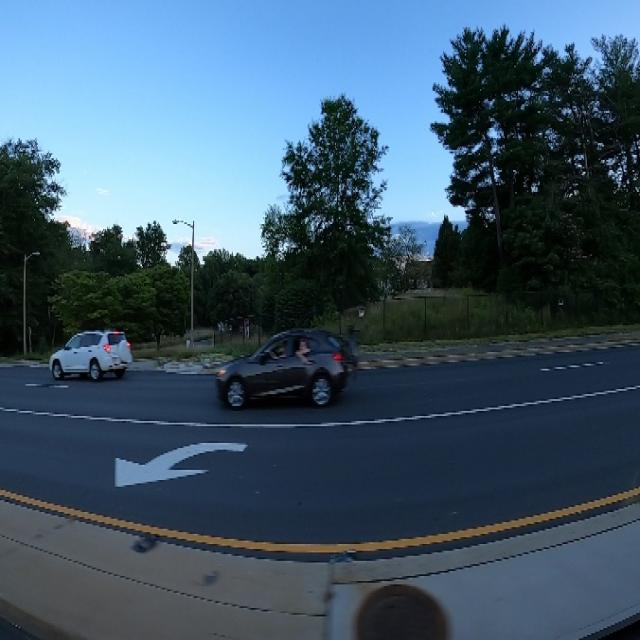car: (211, 317, 364, 418), (46, 317, 134, 391)
